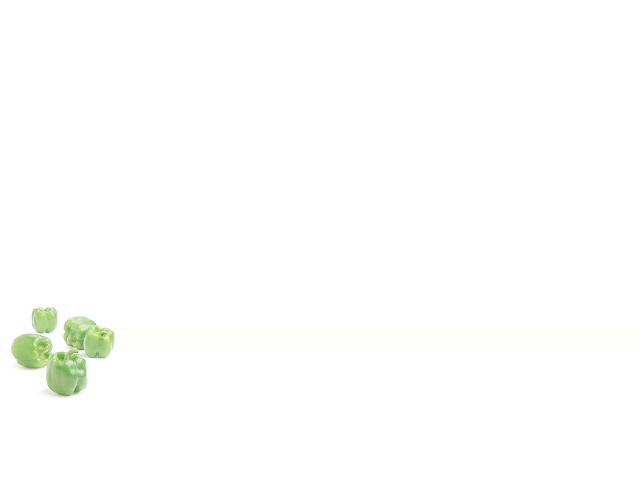bell_pepper: (81, 327, 114, 362)
